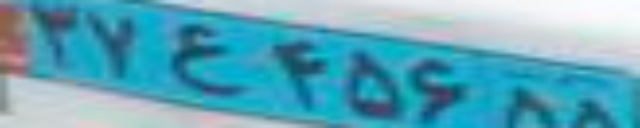3: (29, 0, 79, 71)
4: (268, 39, 333, 112)
5: (340, 47, 406, 117), (505, 86, 560, 127), (565, 95, 623, 127)
6: (408, 56, 473, 122)
7: (85, 9, 140, 78)
ain: (164, 22, 244, 95)
